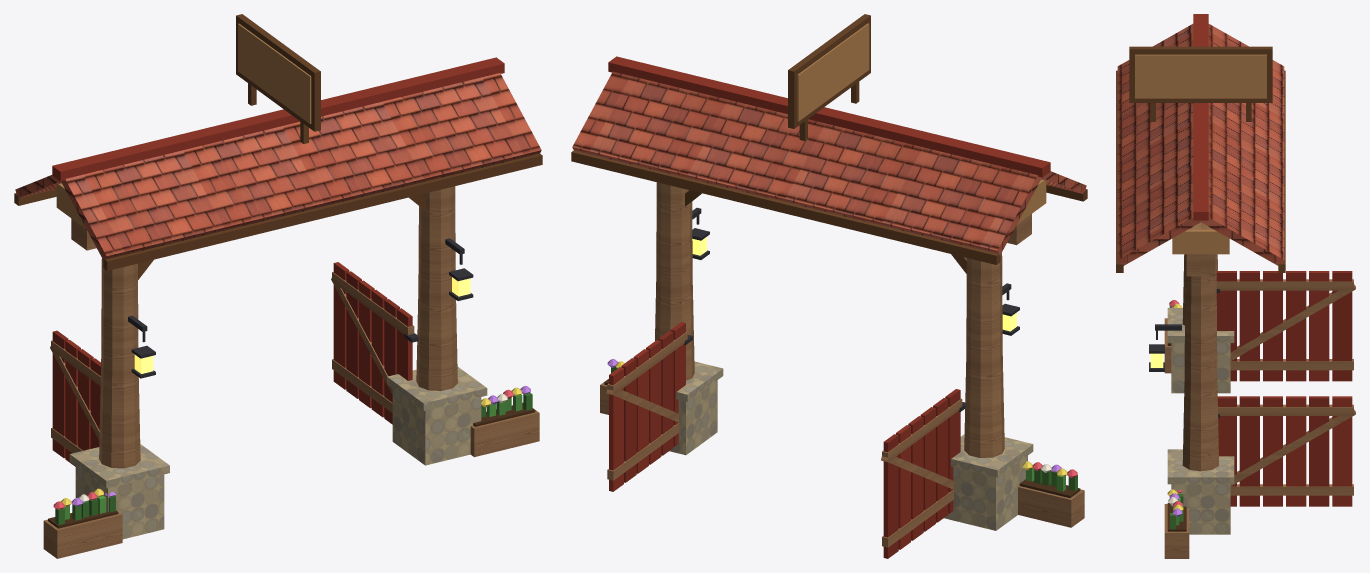
File: entrada_granja.glb
The picture shows the model from 3 angles, left to right: view 1: azimuth 30°, elevation 25°; view 2: azimuth 150°, elevation 25°; view 3: azimuth 270°, elevation 25°; orthographic projection. The views are drawn at different scales.
Visible parts, largest first — view 1: SM_EntradaGranja; view 2: SM_EntradaGranja; view 3: SM_EntradaGranja.
Boxes of the visible parts, x1,y1,x2,y2 form: SM_EntradaGranja: (14, 14, 542, 558); SM_EntradaGranja: (571, 14, 1087, 558); SM_EntradaGranja: (1116, 14, 1355, 558).
Bounding box in the file's own units: 5.32 × 4.66 × 2.51.
Materials: 5 (3 with a texture image).
